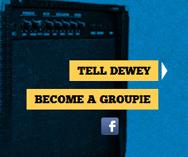button: (25, 88, 159, 110), (68, 60, 158, 81)
